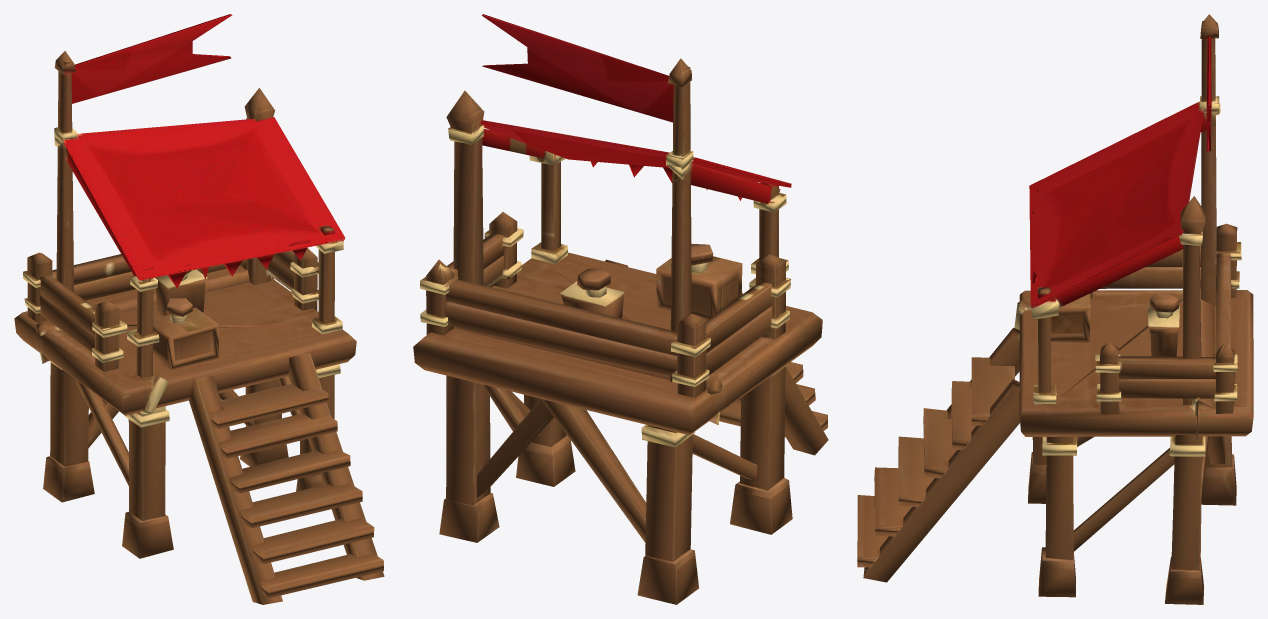
File: highlands-lookout.glb
The picture shows the model from 3 angles, left to right: view 1: azimuth 30°, elevation 25°; view 2: azimuth 150°, elevation 25°; view 3: azimuth 270°, elevation 25°; orthographic projection. The views are drawn at different scales.
Bounding box in the file's own units: 1.09 × 2 × 1.48.
1 material, 1 textured.
